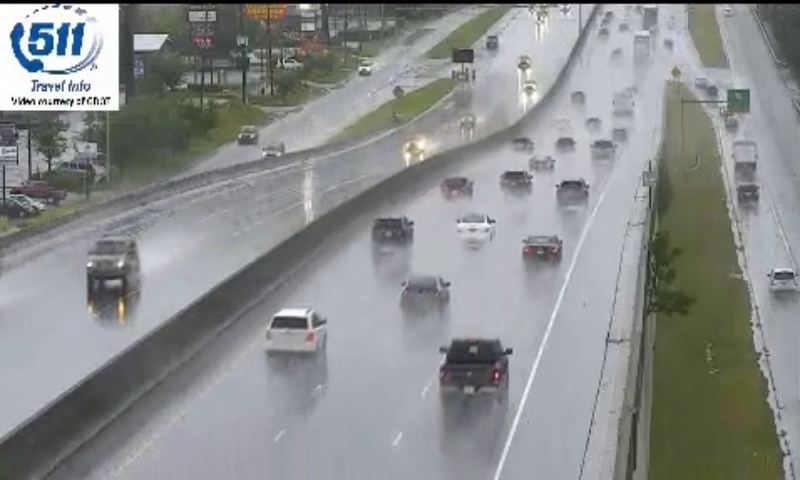car: (438, 340, 507, 398), (266, 306, 324, 354), (398, 274, 448, 314), (371, 217, 413, 247), (455, 215, 495, 243), (521, 236, 560, 262), (557, 179, 589, 209)
